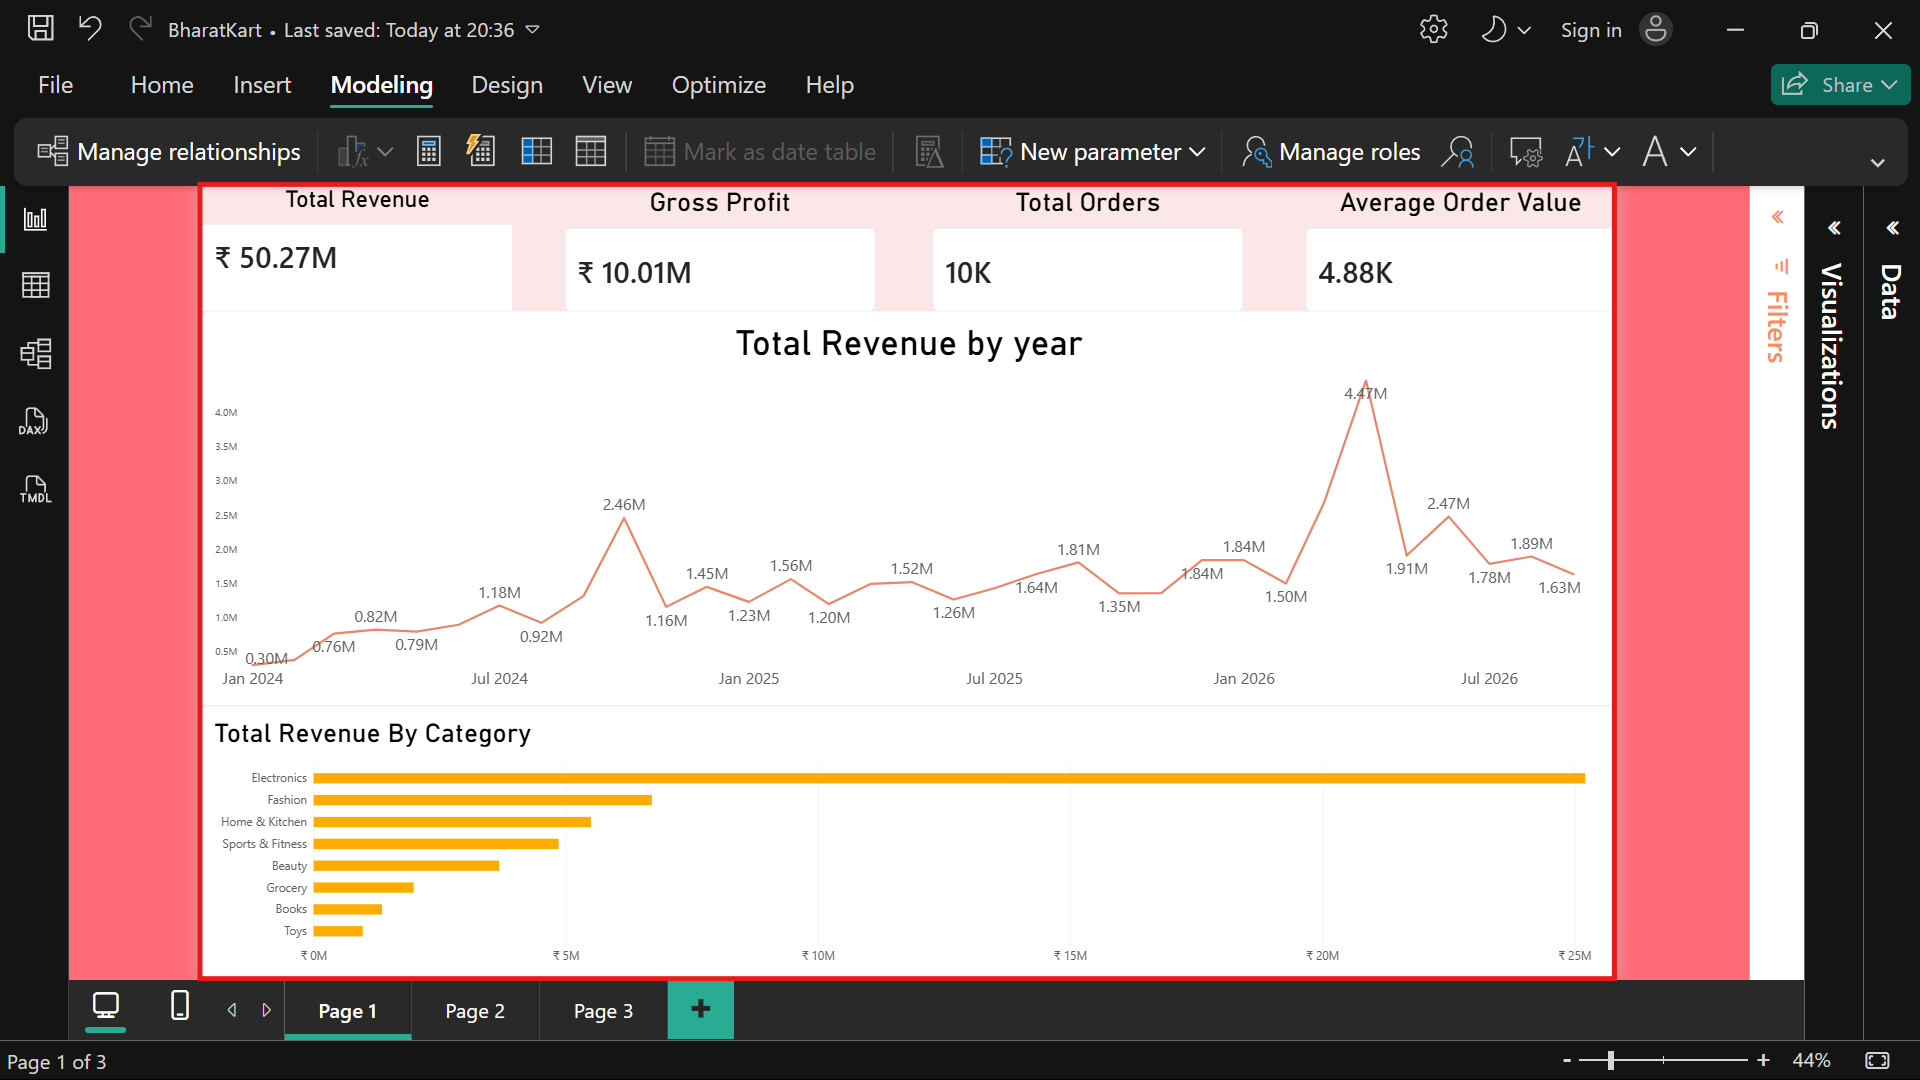

Layout of this report page (visuals, bound fields, positions):
{"tool":"powerbi","page":{"name":"Page 1","canvas":[1920,1080],"ordinal":0},"visuals":[{"type":"cardVisual","title":"Total Revenue","fields":{"Data":["bharatkart order_items_clean.Total Revenue"]},"box":[0,0,422.2,171.2],"z":0},{"type":"cardVisual","title":"Gross Profit","fields":{"Data":["bharatkart customers.Gross Profit"]},"box":[493.5,0,422.2,171.2],"z":1000},{"type":"cardVisual","title":"Total Orders","fields":{"Data":["bharatkart orders_clean.Total Orders"]},"box":[993.5,0,422.2,171.2],"z":2000},{"type":"cardVisual","title":"Average Order Value","fields":{"Data":["bharatkart orders_clean.Average Order Value"]},"box":[1500.4,0,422.2,171.2],"z":3000},{"type":"lineChart","title":"Total Revenue by year","fields":{"Category":["bharatkart orders_clean.order_date.Variation.Date Hierarchy.Year","bharatkart orders_clean.order_date.Variation.Date Hierarchy.Quarter","bharatkart orders_clean.order_date.Variation.Date Hierarchy.Month"],"Y":["bharatkart order_items_clean.Total Revenue"]},"box":[0,170,1920,536.7],"z":4000},{"type":"clusteredBarChart","title":"Total Revenue By Category","fields":{"Category":["bharatkart products.category"],"Y":["bharatkart order_items_clean.Total Revenue"]},"box":[0,706.7,1920,373.3],"z":5000}]}

Visuals, with their boxes on the page's 1920x1080 design canvas (x1, y1, x2, y2). These are canvas units, not pixel positions in the 1920x1080 screenshot, which may show the page scaled, cropped or inside an application window:
"Total Revenue" cardVisual: (0,0,422,171)
"Gross Profit" cardVisual: (494,0,916,171)
"Total Orders" cardVisual: (994,0,1416,171)
"Average Order Value" cardVisual: (1500,0,1923,171)
"Total Revenue by year" lineChart: (0,170,1920,707)
"Total Revenue By Category" clusteredBarChart: (0,707,1920,1080)
